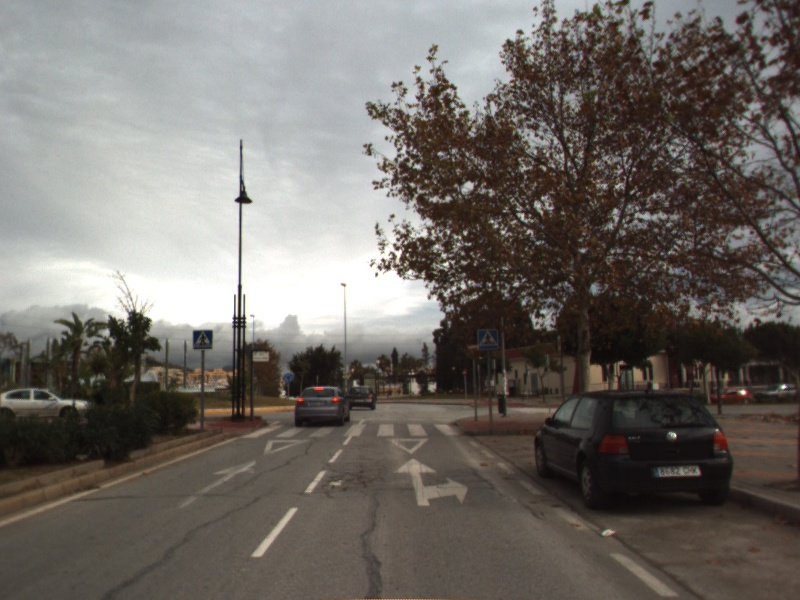STRAIGHT: (175, 457, 258, 511)
STRAIGHT_RIGHT: (391, 456, 470, 509)
